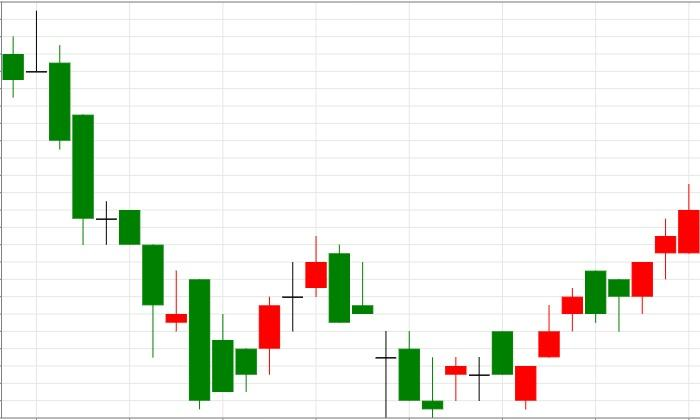hanging_man_fall: (514, 271, 631, 410)
three_white_soldiers_rise: (444, 288, 584, 410)
